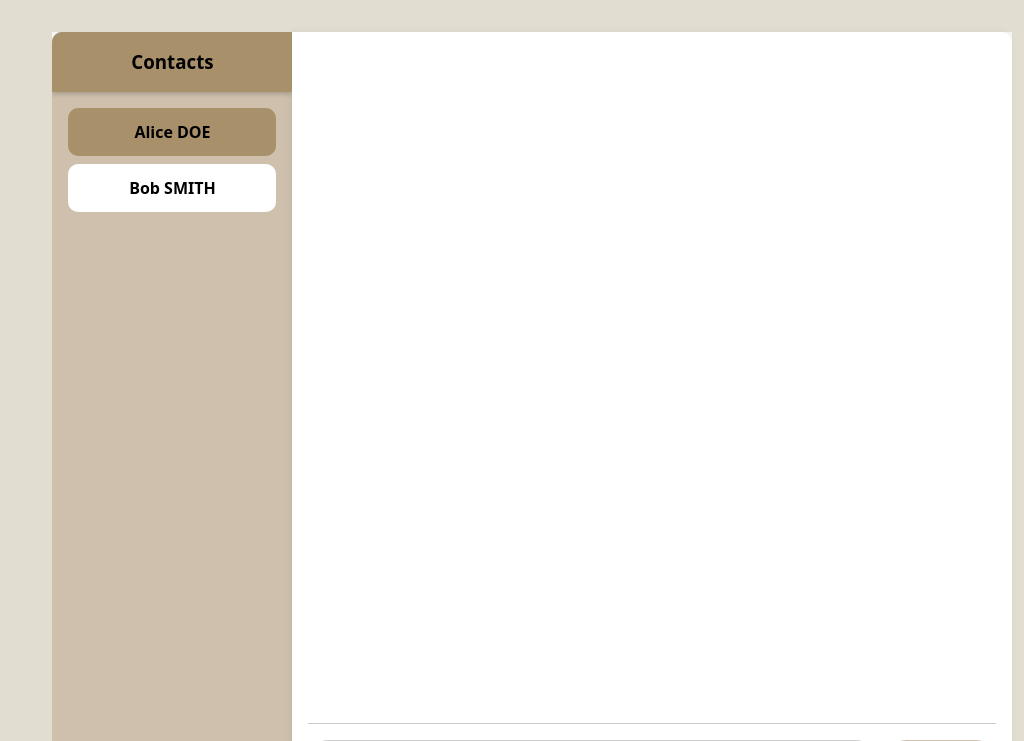
it: ChatManagement › selects a contact and displays messages
Click the text "Bob SMITH": (172, 188) [68, 164, 276, 212]
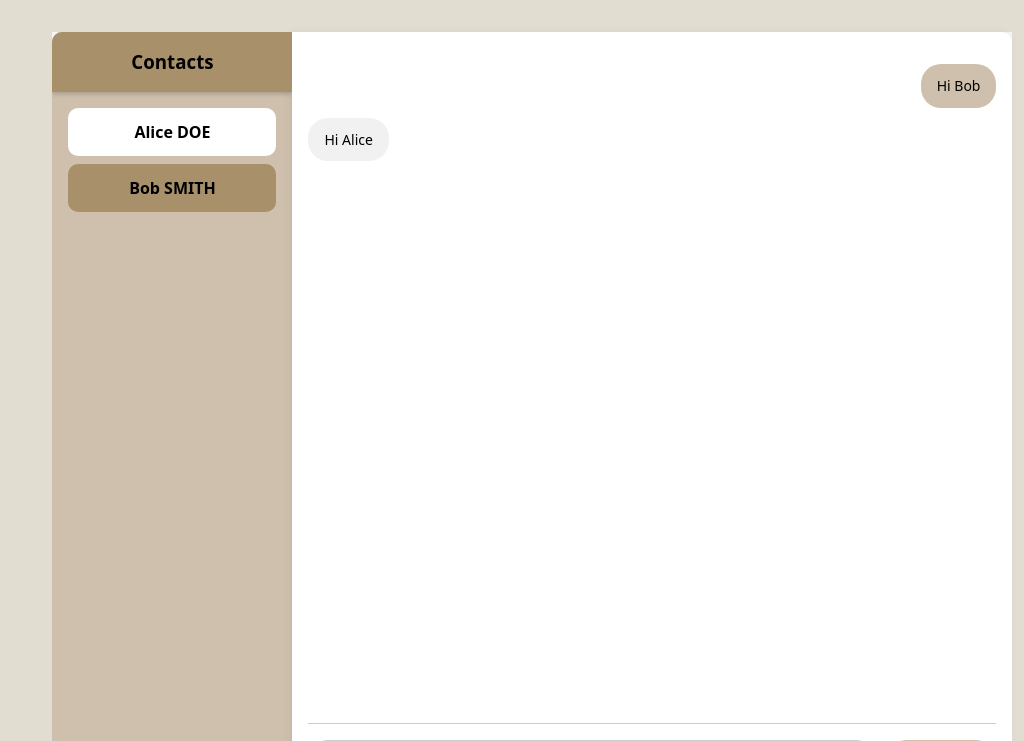
expect the text "Hi Bob" is shown: met, box [921, 64, 996, 108]
expect the text "Hi Alice" is shown: met, box [308, 118, 389, 161]
